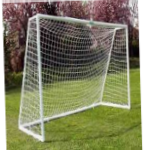goals: (16, 11, 134, 144)
